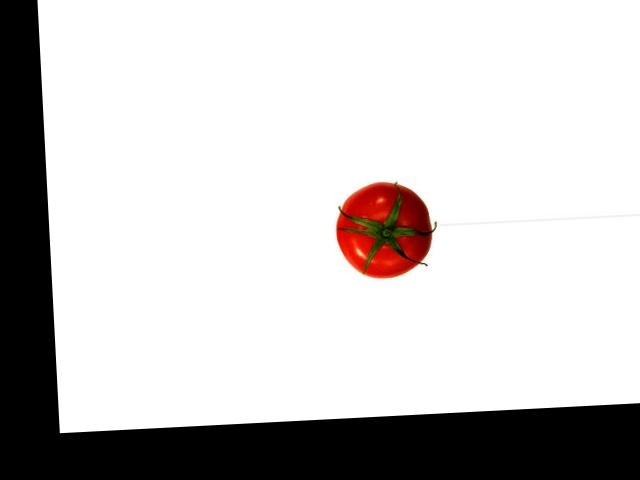tomato: (333, 179, 433, 280)
